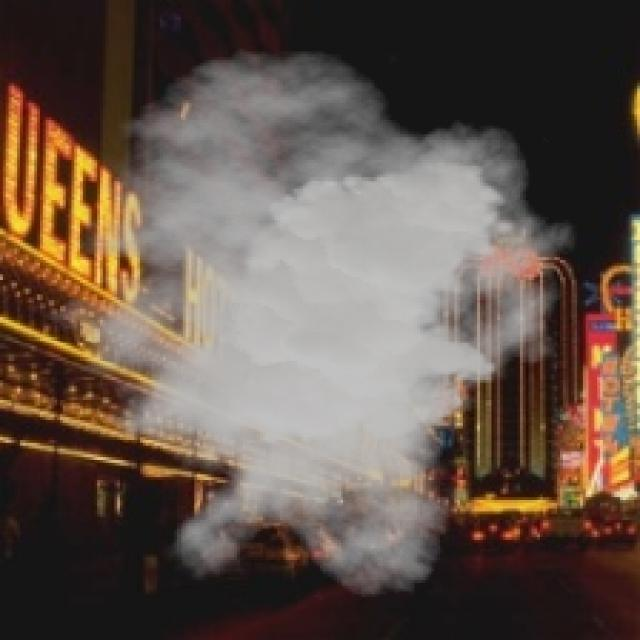Smoke: (20, 49, 577, 600)
